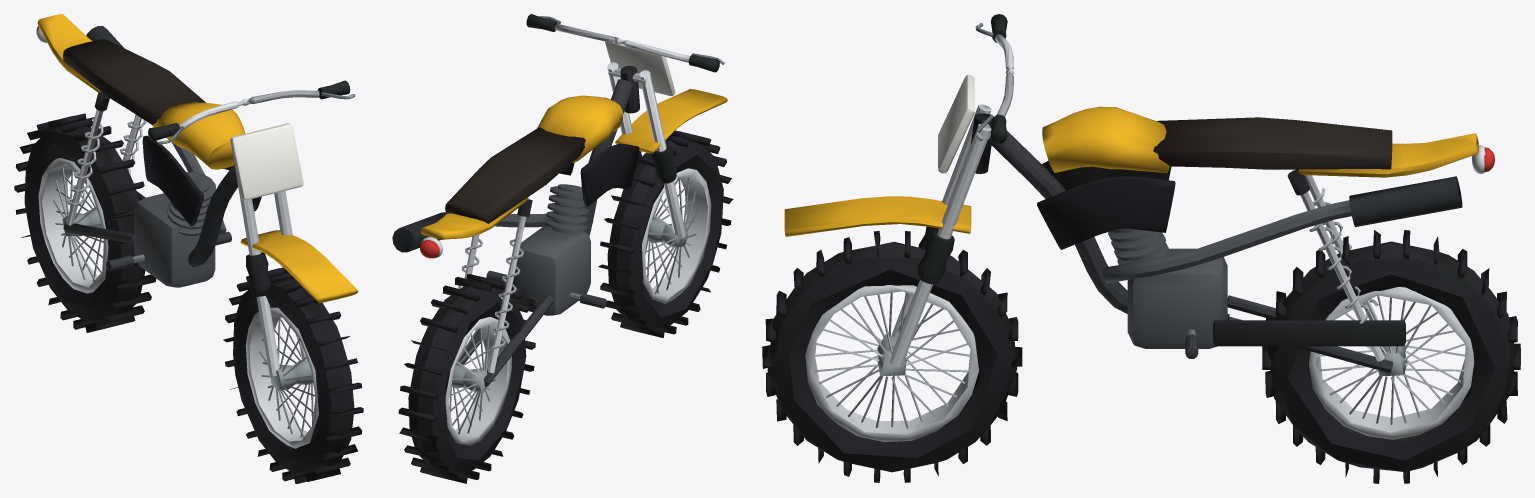
The model's file is veh-trailBike.glb.
3 views of the same model, side by side, from view 1: azimuth 30°, elevation 25°; view 2: azimuth 150°, elevation 25°; view 3: azimuth 270°, elevation 25° (orthographic). The views are drawn at different scales.
Parts seen in each view (by area): view 1: body, wheel0, wheel1; view 2: body, wheel1, wheel0; view 3: body, wheel0, wheel1.
Boxes of the visible parts, x1,y1,x2,y2 form: body: [36, 14, 358, 376]; wheel0: [223, 268, 363, 483]; wheel1: [14, 113, 156, 332]; body: [392, 14, 727, 386]; wheel1: [398, 274, 535, 483]; wheel0: [598, 130, 733, 337]; body: [784, 14, 1494, 372]; wheel0: [762, 230, 1022, 482]; wheel1: [1262, 230, 1520, 483].
Bounding box in the file's own units: 0.77 × 1.25 × 2.13.
